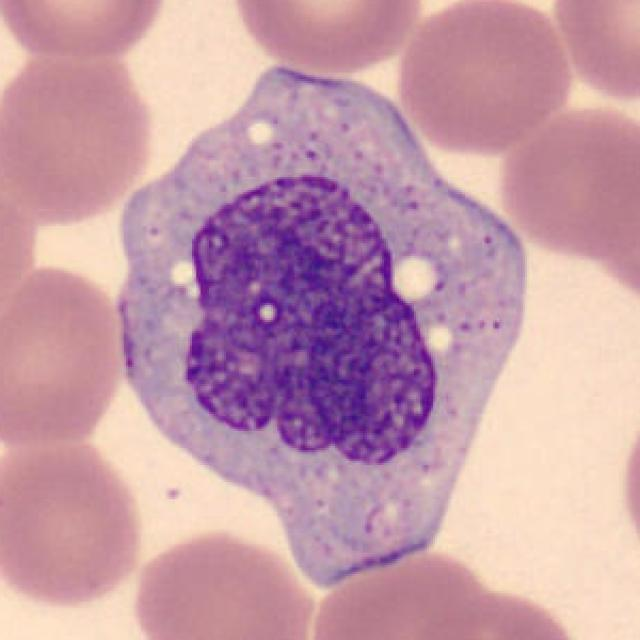White Blood Cell: (125, 69, 524, 582)
